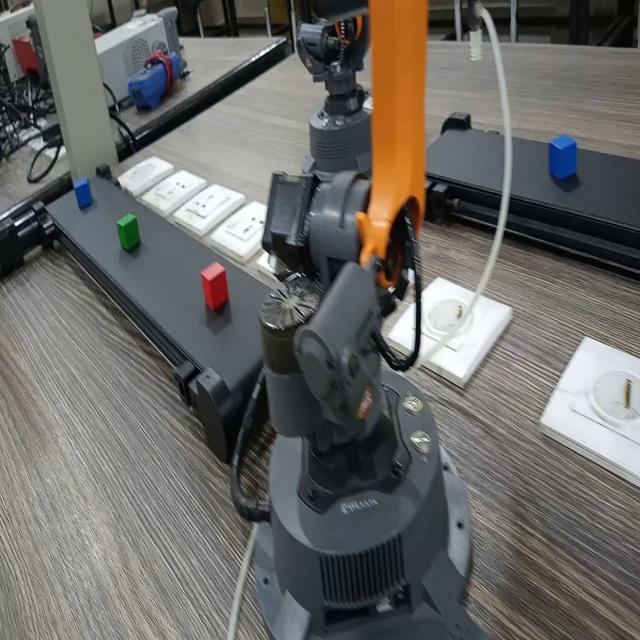cube: (543, 129, 584, 186), (196, 253, 232, 312), (114, 206, 144, 254), (72, 175, 95, 210)
